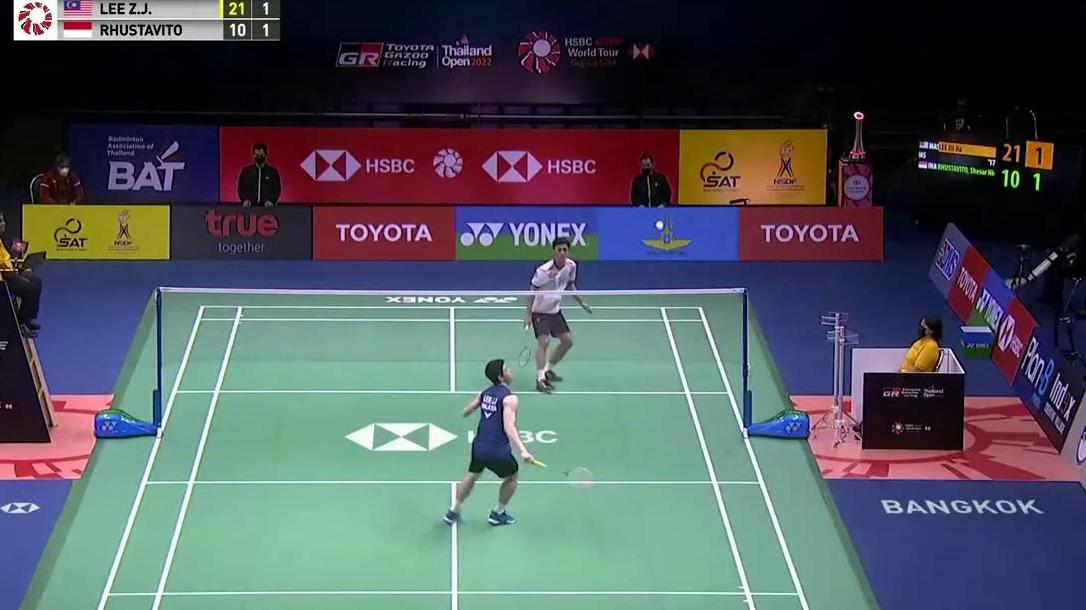racket: (525, 455, 595, 490), (519, 320, 531, 367)
shuttle: (655, 219, 664, 230)
